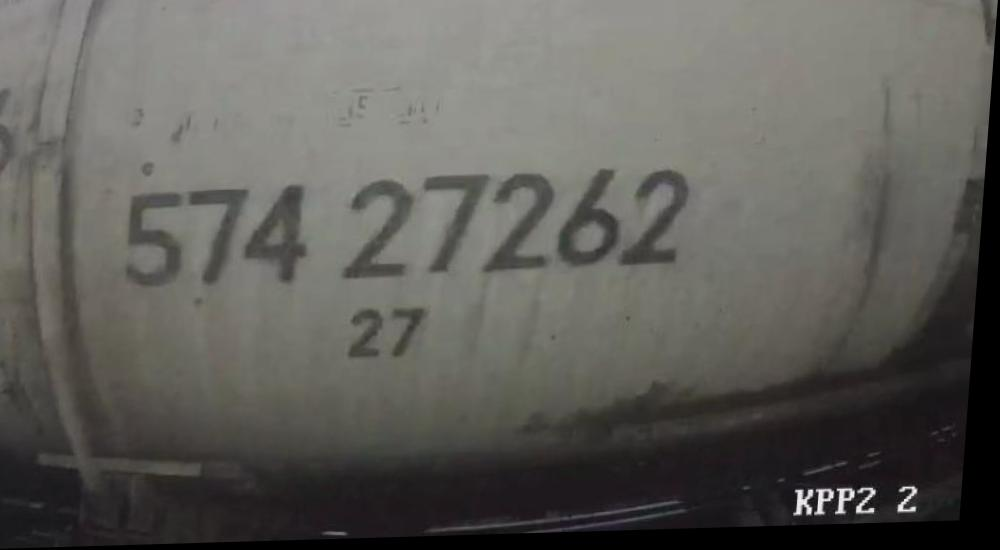Wagon-number: (124, 167, 703, 293)
